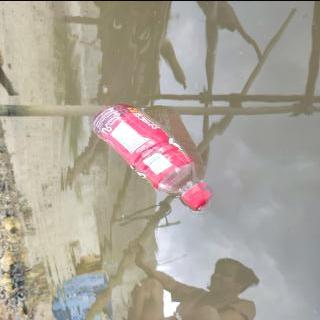bottle: (86, 101, 217, 210)
